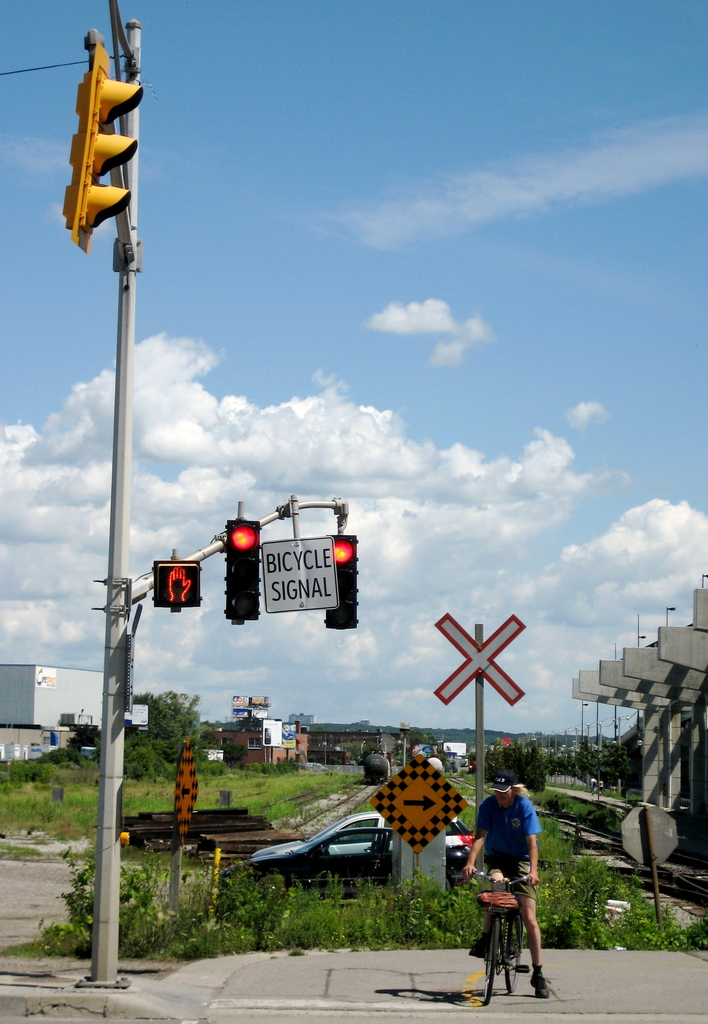red_light: (226, 522, 264, 614), (329, 535, 356, 626)
